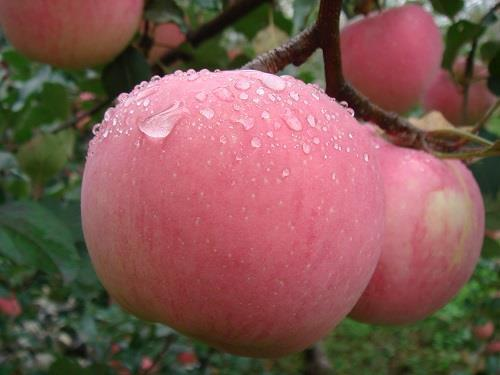apple: (79, 68, 386, 356), (342, 146, 483, 324)
